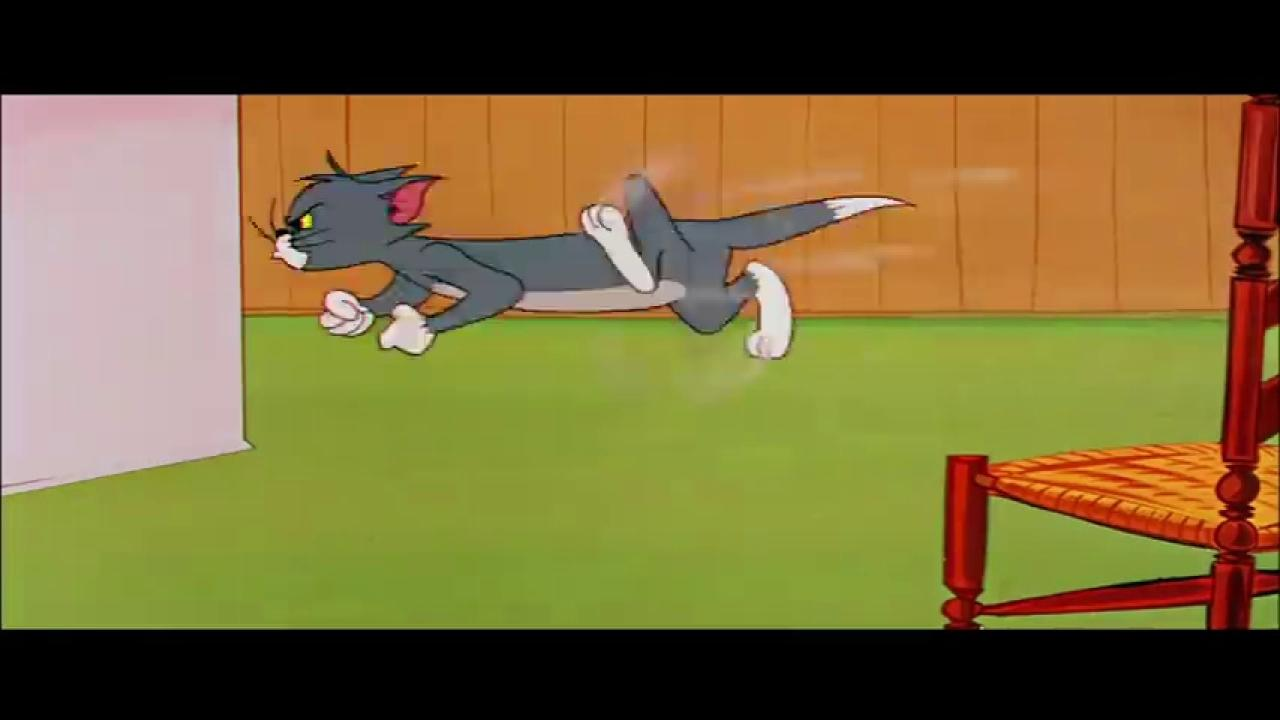Tom: (268, 149, 918, 361)
